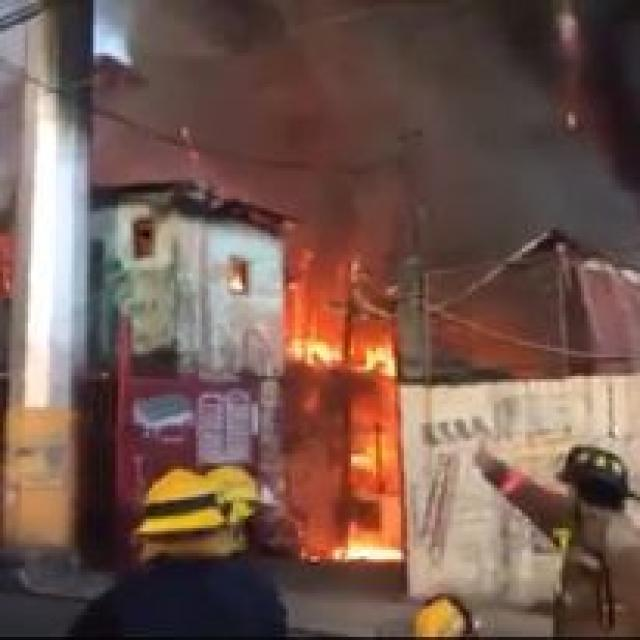Fire: (284, 312, 403, 394), (298, 522, 409, 574), (344, 412, 404, 494)
Smoke: (94, 0, 640, 246)
